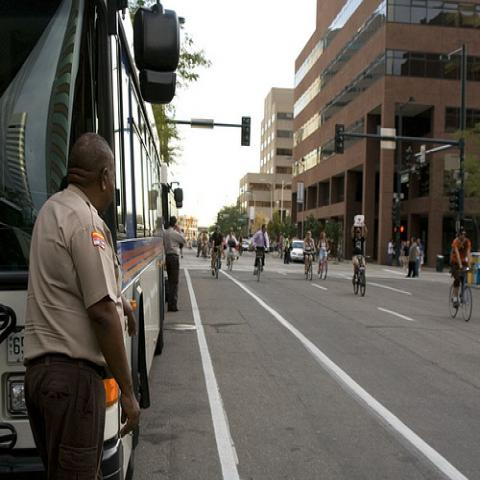bus: (5, 0, 183, 454)
car: (290, 240, 304, 263), (242, 239, 249, 249)
